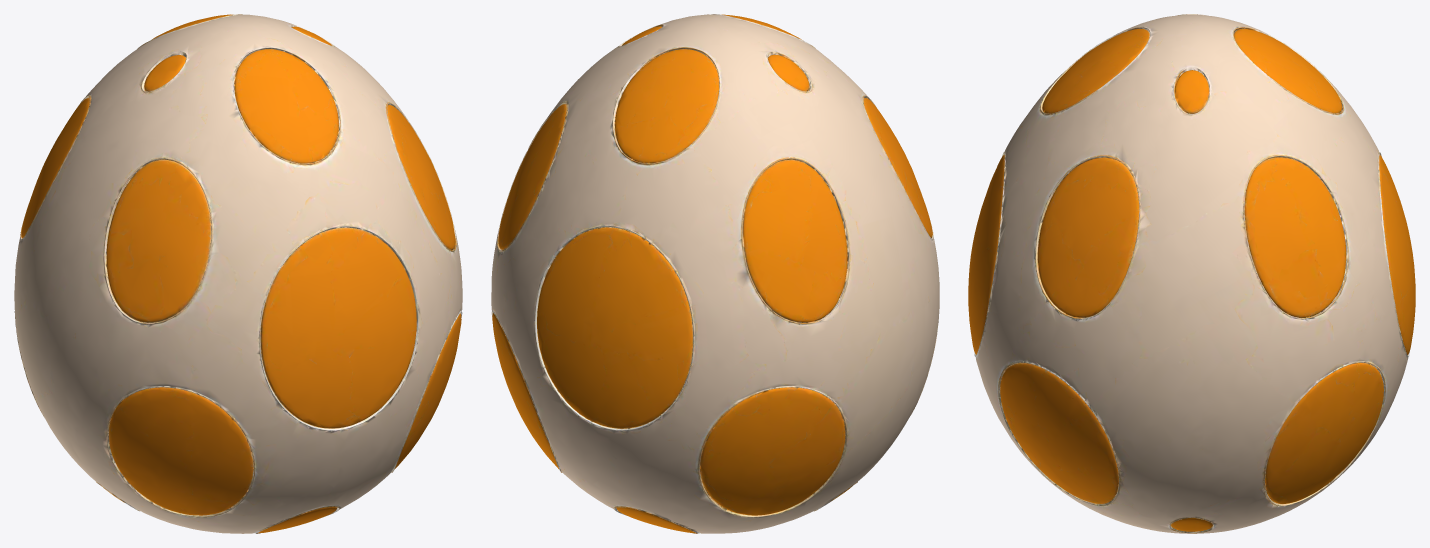
Rendered from egg.glb.
3 renders of one model, left to right at view 1: azimuth 30°, elevation 25°; view 2: azimuth 150°, elevation 25°; view 3: azimuth 270°, elevation 25°, orthographic.
Bounding box in the file's own units: 1.59 × 1.9 × 1.59.
Materials: 1 (1 with a texture image).
